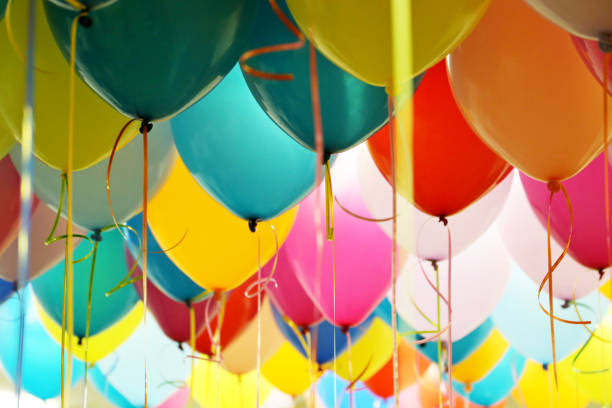Balloon: (446, 1, 612, 181), (46, 1, 242, 120), (173, 86, 324, 215), (288, 1, 484, 86), (290, 196, 400, 322), (33, 230, 137, 330)
